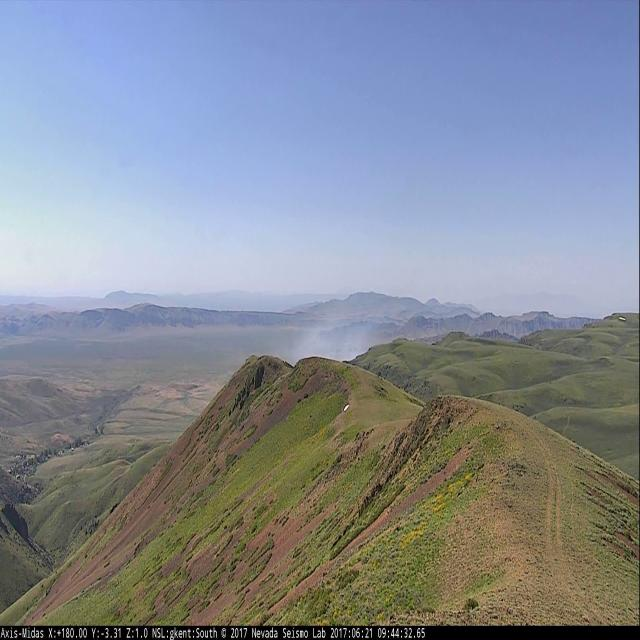smoke: (266, 298, 390, 376)
